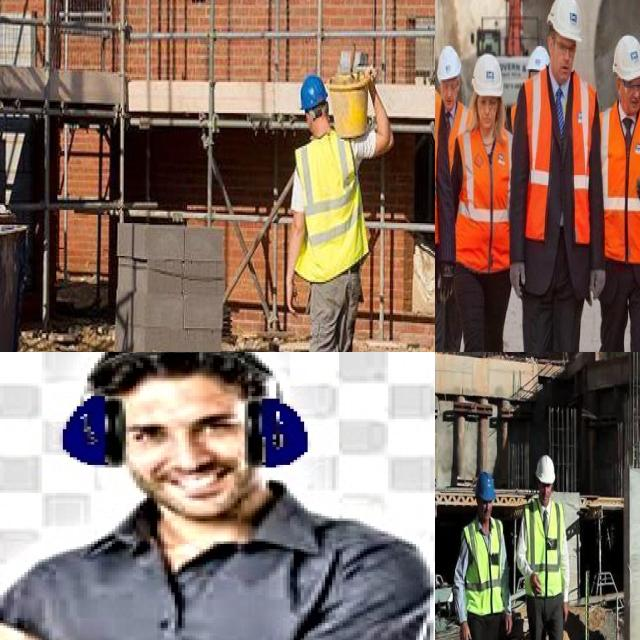Ear-protection: (55, 352, 315, 495)
face_nomask: (474, 88, 497, 134), (552, 36, 576, 76), (618, 76, 640, 110), (440, 78, 457, 108), (478, 497, 494, 525), (537, 480, 554, 506)
glasses: (552, 39, 580, 60), (622, 79, 640, 100)
hand_glove: (504, 254, 530, 302), (586, 260, 610, 306), (437, 257, 458, 308), (634, 168, 640, 215)
hand_noglove: (281, 276, 299, 326), (363, 62, 379, 97), (527, 569, 543, 602), (459, 622, 473, 640), (562, 601, 570, 625), (506, 612, 514, 635)
head_helmet: (469, 51, 507, 99), (546, 0, 585, 41), (612, 33, 640, 81), (298, 76, 328, 113), (437, 44, 462, 78), (475, 468, 496, 503), (535, 453, 557, 484), (523, 48, 550, 69)
person: (515, 0, 599, 352), (289, 65, 381, 352), (458, 50, 516, 352), (599, 29, 640, 352), (435, 46, 464, 352), (523, 453, 567, 640), (459, 468, 505, 640)
vest: (525, 68, 592, 266), (291, 131, 371, 287), (458, 126, 516, 277), (599, 115, 640, 278), (521, 500, 568, 600), (466, 522, 505, 612), (438, 94, 470, 164)
